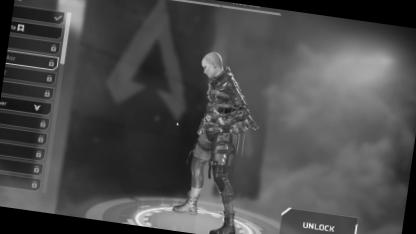Target: (182, 44, 256, 204)
